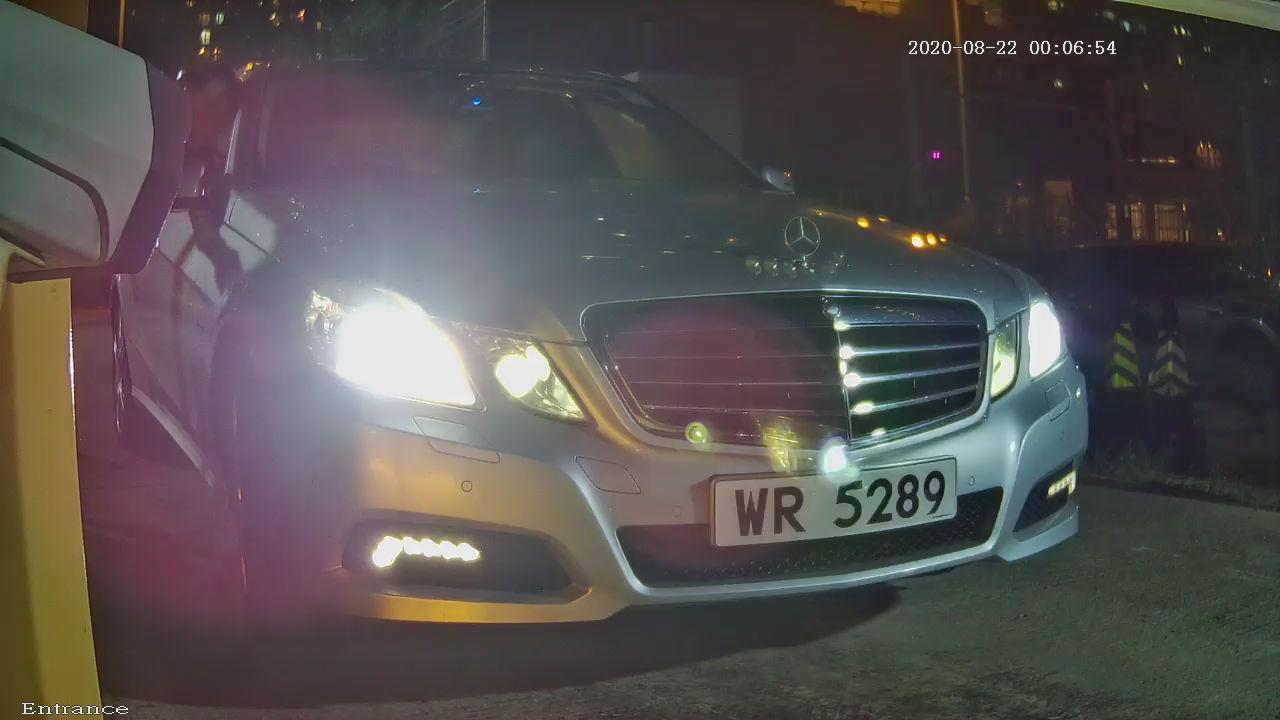Car: (41, 1, 1201, 695)
License Plate: (677, 434, 989, 588)
